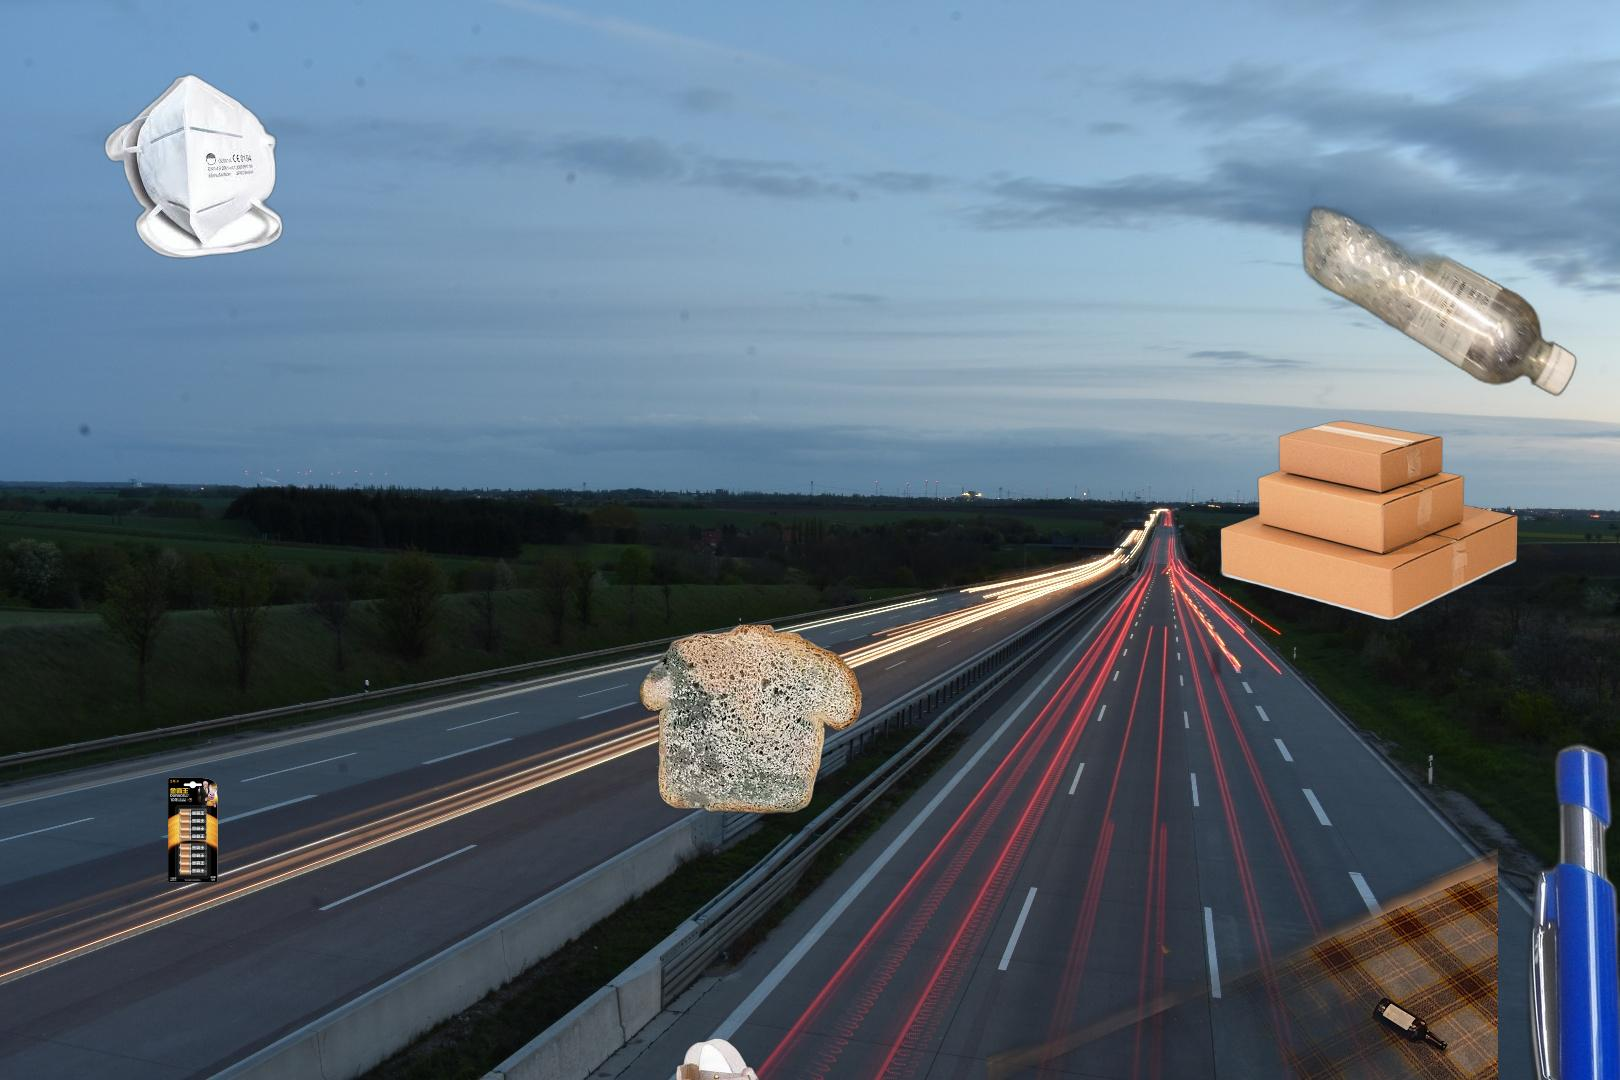battery: (165, 775, 221, 886)
biological: (636, 626, 870, 814)
glass: (986, 780, 1498, 1080)
penholder: (1514, 726, 1620, 1080)
plastic-bottles: (1221, 111, 1580, 403)
shoes: (657, 1035, 880, 1080)
trash: (101, 72, 284, 262)
trashbox-cardboard: (1219, 418, 1519, 623)
